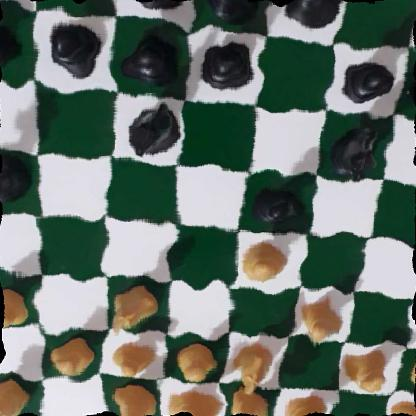black-bishop: (0, 148, 33, 205), (124, 0, 197, 14)
black-king: (275, 0, 353, 34)
black-knight: (324, 119, 387, 183), (129, 98, 179, 159)
black-pawn: (336, 46, 398, 104), (197, 33, 254, 95), (45, 14, 102, 75), (126, 26, 180, 90), (248, 176, 309, 228), (0, 8, 22, 67), (409, 54, 416, 110)
black-queen: (198, 0, 268, 32)
white-bishop: (105, 383, 155, 416), (278, 394, 338, 416)
white-king: (218, 386, 276, 416)
white-knight: (229, 339, 280, 399), (109, 280, 157, 334)
white-pawn: (234, 237, 289, 284), (340, 346, 396, 389), (293, 299, 345, 340), (108, 337, 156, 377), (50, 335, 96, 375), (171, 344, 219, 380), (0, 282, 34, 324), (406, 354, 416, 392)
white-queen: (162, 381, 218, 416)
white-rook: (0, 375, 30, 416), (386, 395, 416, 416)
